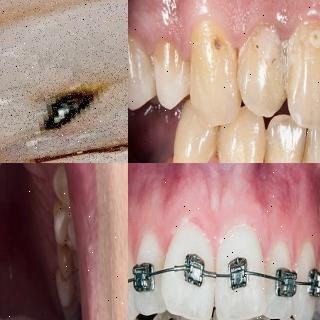Gum Swelling: (132, 208, 270, 261), (170, 0, 269, 58)
cavities: (0, 25, 128, 163), (206, 28, 234, 72)
maligned: (161, 228, 214, 320)
plaque: (238, 30, 288, 111), (289, 20, 320, 114), (137, 54, 167, 92), (265, 138, 301, 163), (220, 145, 260, 163)
stains: (55, 243, 75, 277), (50, 165, 66, 202)
